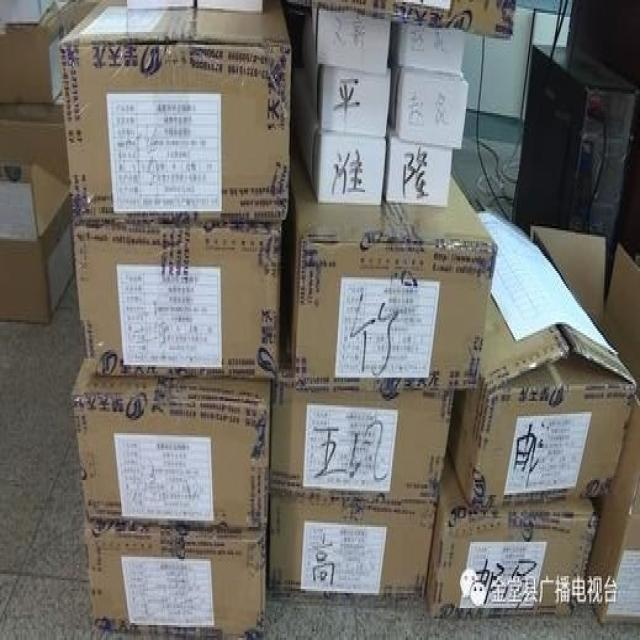Carton: (271, 245, 635, 503), (62, 43, 289, 371), (270, 499, 598, 610), (74, 397, 266, 523), (86, 523, 261, 629)
